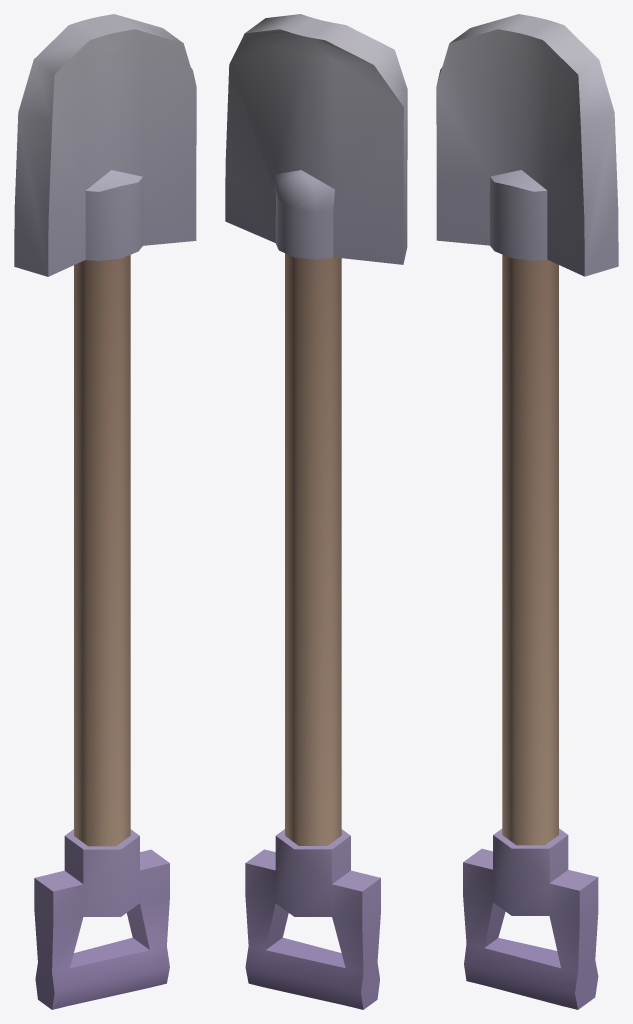
The model's file is tool-shovel.glb.
3 views of the same model, side by side, from view 1: azimuth 30°, elevation 25°; view 2: azimuth 150°, elevation 25°; view 3: azimuth 330°, elevation 25° (orthographic).
Parts seen in each view (by area): view 1: tool-shovel; view 2: tool-shovel; view 3: tool-shovel.
Boxes of the visible parts, x1,y1,x2,y2 form: tool-shovel: (14, 14, 196, 1009); tool-shovel: (225, 14, 407, 1009); tool-shovel: (436, 14, 618, 1009).
Bounding box in the file's own units: 0.1929 × 0.9973 × 0.077.
